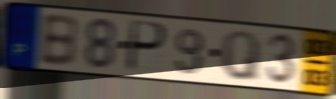3: (265, 32, 299, 87)
8: (83, 16, 118, 71)
9: (173, 27, 206, 76)
B: (38, 13, 81, 69)
P: (124, 19, 169, 75)
Q: (220, 29, 261, 84)
